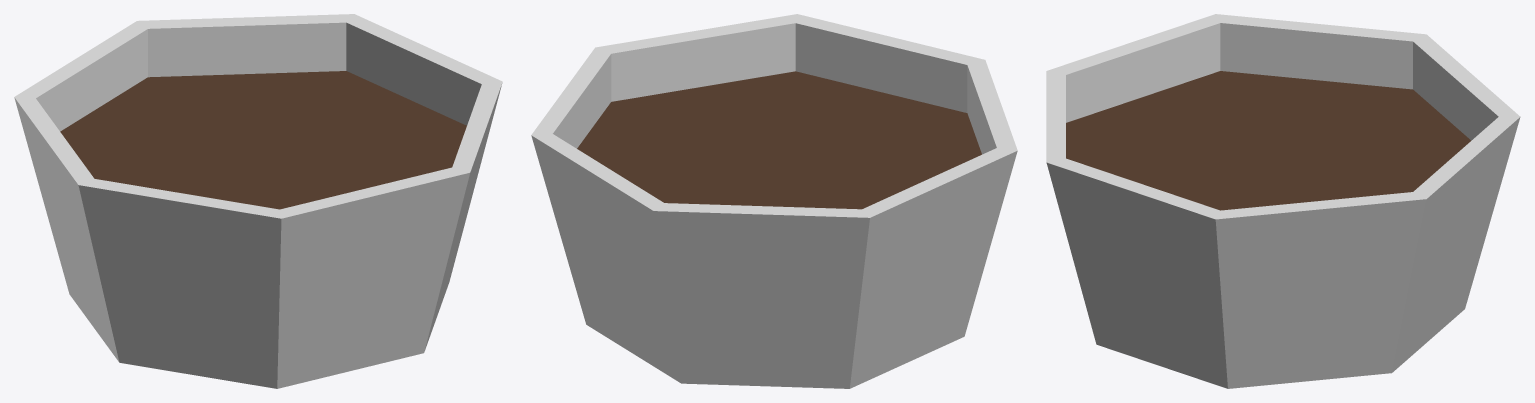
File: Soy_sauce_01.fbx
3 renders of one model, left to right at view 1: azimuth 30°, elevation 25°; view 2: azimuth 150°, elevation 25°; view 3: azimuth 270°, elevation 25°, orthographic.
Visible parts, largest first — view 1: Soy_sauce_01; view 2: Soy_sauce_01; view 3: Soy_sauce_01.
Boxes of the visible parts, x1,y1,x2,y2 form: Soy_sauce_01: [14, 14, 502, 388]; Soy_sauce_01: [531, 14, 1017, 388]; Soy_sauce_01: [1046, 14, 1520, 388].
Bounding box in the file's own units: 10.33 × 4.51 × 10.07.
